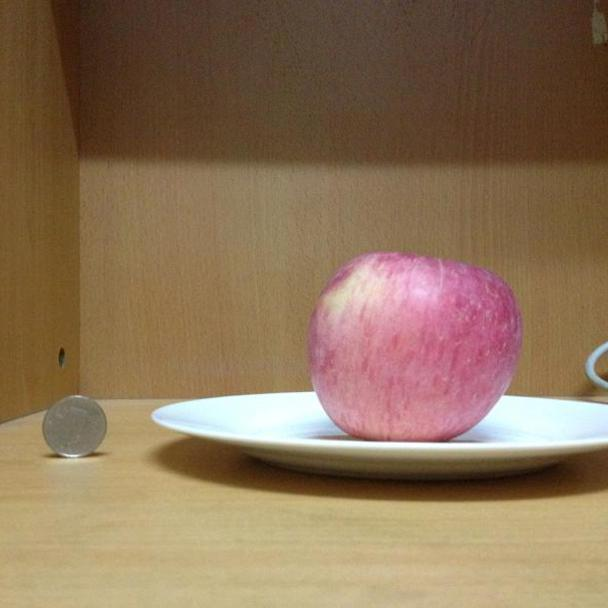apple: (308, 247, 521, 443)
